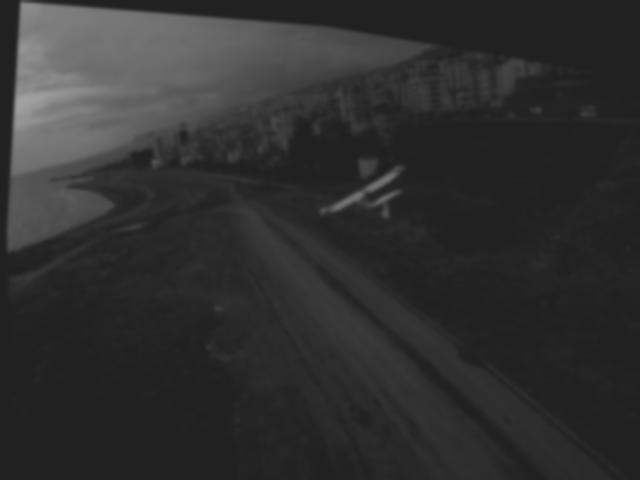hedef: (305, 128, 429, 240)
